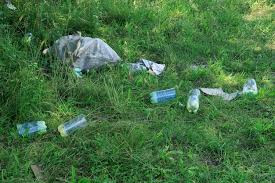plastic: (4, 111, 49, 142), (57, 110, 93, 141), (143, 85, 181, 105), (243, 73, 261, 99), (186, 88, 203, 114)
plastic bag: (43, 32, 119, 76)
trash: (124, 50, 171, 84)
